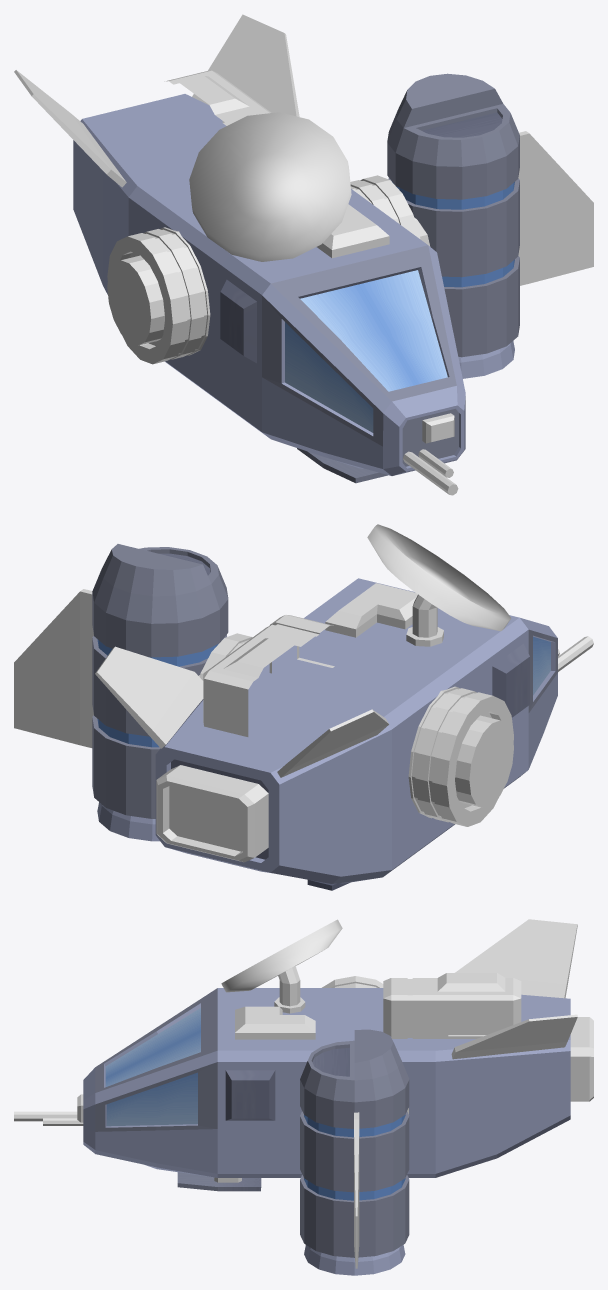
The model's file is Ship_Model.glb.
3 renders of one model, top to bottom at view 1: azimuth 30°, elevation 25°; view 2: azimuth 150°, elevation 25°; view 3: azimuth 270°, elevation 25°, orthographic. The views are drawn at different scales.
Visible parts, largest first — view 1: Phase1, Phase2, Phase4.001, Phase3, Phase3.001, Phase5, Phase4, Phase1.002; view 2: Phase1, Phase2, Phase4.001, Phase3, Phase2.001, Phase3.001, Phase5, Phase4; view 3: Phase1, Phase2, Phase3.001, Phase5, Phase4.001, Phase2.001, Phase1.002, Phase4, Phase3.
Boxes of the visible parts, left/top/right/bottom form: Phase1: left=73, top=94, right=465, bottom=475; Phase2: left=387, top=73, right=519, bottom=378; Phase4.001: left=189, top=112, right=389, bottom=261; Phase3: left=518, top=131, right=593, bottom=285; Phase3.001: left=14, top=14, right=299, bottom=187; Phase5: left=164, top=70, right=271, bottom=125; Phase4: left=403, top=413, right=458, bottom=495; Phase1.002: left=297, top=448, right=387, bottom=483; Phase1: left=155, top=578, right=557, bottom=883; Phase2: left=92, top=544, right=228, bottom=841; Phase4.001: left=325, top=524, right=511, bottom=646; Phase3: left=14, top=589, right=93, bottom=747; Phase2.001: left=156, top=765, right=268, bottom=862; Phase3.001: left=95, top=646, right=389, bottom=777; Phase5: left=203, top=615, right=334, bottom=736; Phase4: left=558, top=636, right=593, bottom=671; Phase1: left=83, top=976, right=570, bottom=1177; Phase2: left=300, top=1029, right=409, bottom=1275; Phase3.001: left=451, top=919, right=577, bottom=1059; Phase5: left=383, top=973, right=521, bottom=1038; Phase4.001: left=221, top=919, right=342, bottom=1039; Phase2.001: left=570, top=1017, right=593, bottom=1101; Phase1.002: left=177, top=1172, right=261, bottom=1191; Phase4: left=14, top=1094, right=83, bottom=1125; Phase3: left=354, top=1112, right=359, bottom=1268.
Bounding box in the file's own units: 6.63 × 4.17 × 8.77.
Materials: 1 (1 with a texture image).
